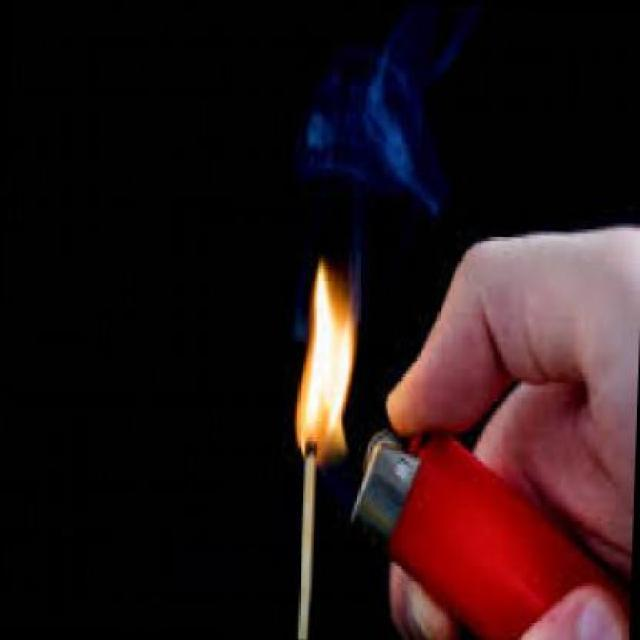Fire: (293, 254, 359, 465)
